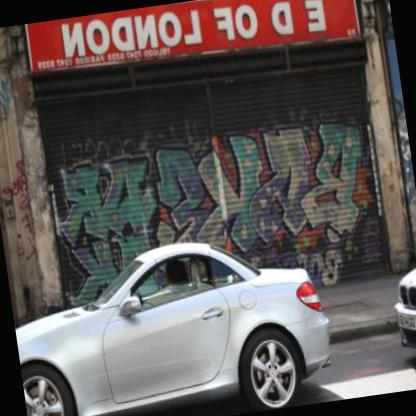car: (7, 220, 343, 415), (384, 251, 415, 378)
